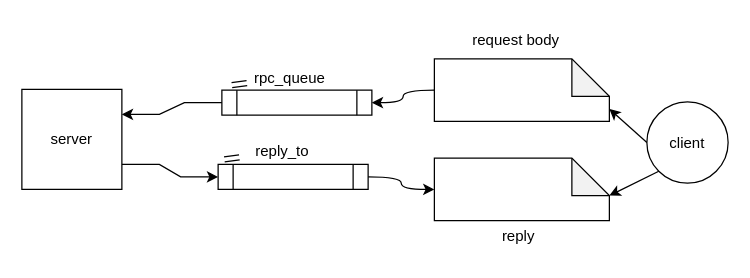
This 750x278 diagram has some shape labels left out. The centre of each missing label's shape, as x and y in pixels:
"(output) text/cipher" goes at pixel 521 189.
"operation(e/d) text/cipher key" goes at pixel 521 89.
